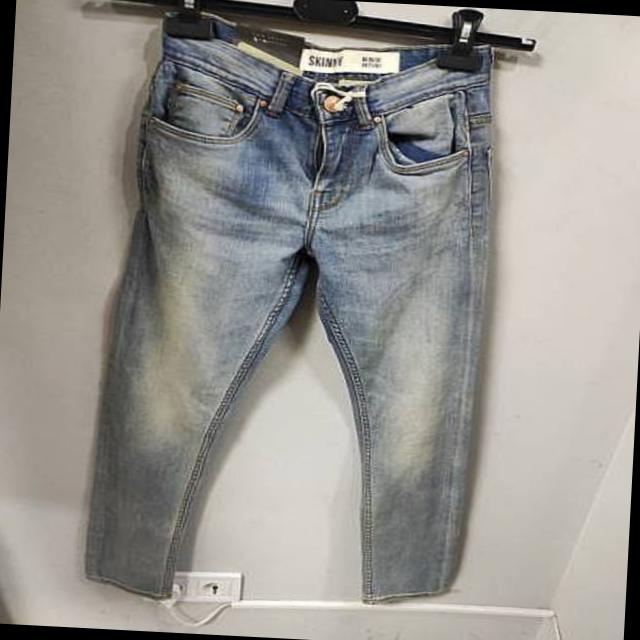TROUSER: (67, 5, 524, 624)
